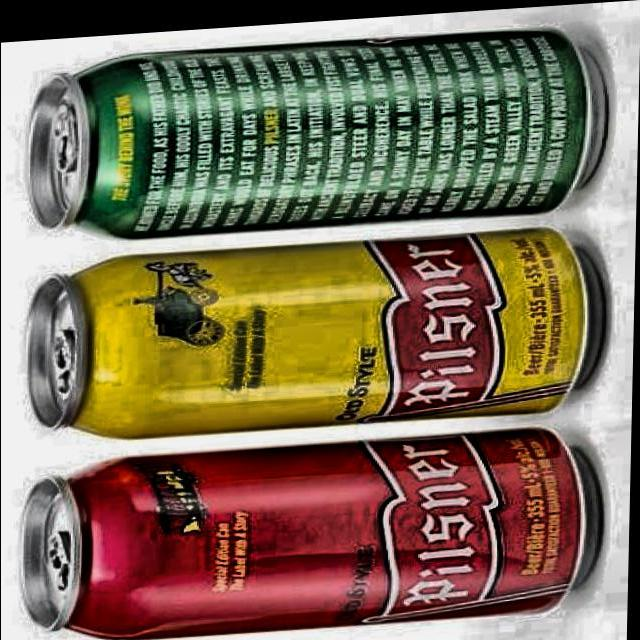Aluminum Can: (16, 2, 615, 245), (16, 212, 614, 446), (14, 414, 608, 640)
